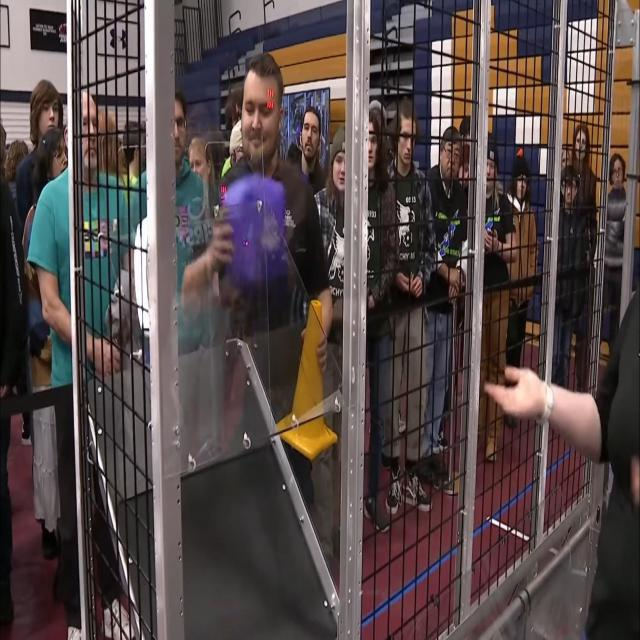frc_cone: (276, 301, 340, 464)
frc_cube: (224, 176, 284, 286)
